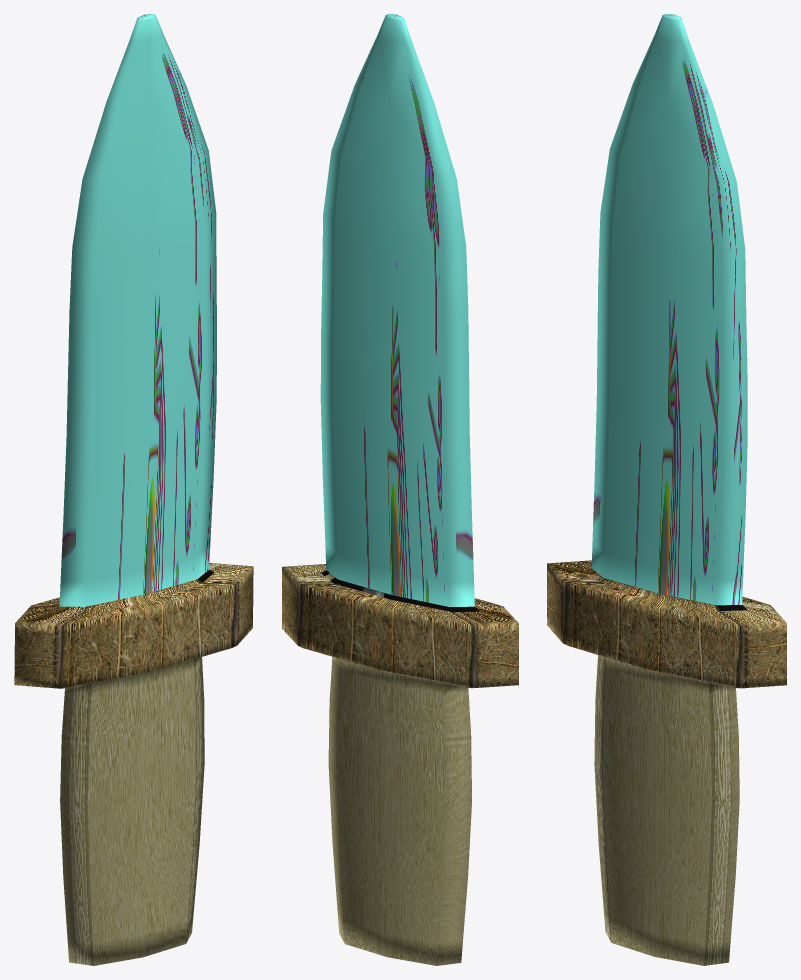
Rendered from BlueLightSword_drop.FBX.
3 views of the same model, side by side, from view 1: azimuth 30°, elevation 25°; view 2: azimuth 150°, elevation 25°; view 3: azimuth 330°, elevation 25° (orthographic).
Parts seen in each view (by area): view 1: Box001; view 2: Box001; view 3: Box001.
Boxes of the visible parts, bbox=[...] form: Box001: bbox=[14, 14, 253, 965]; Box001: bbox=[282, 14, 518, 965]; Box001: bbox=[547, 14, 786, 965].
Size of the model in its own units: 33.61 by 9.12 by 126.
